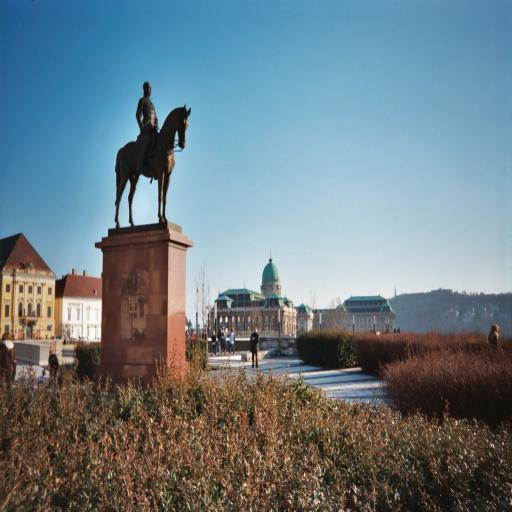horse: (114, 102, 192, 229)
